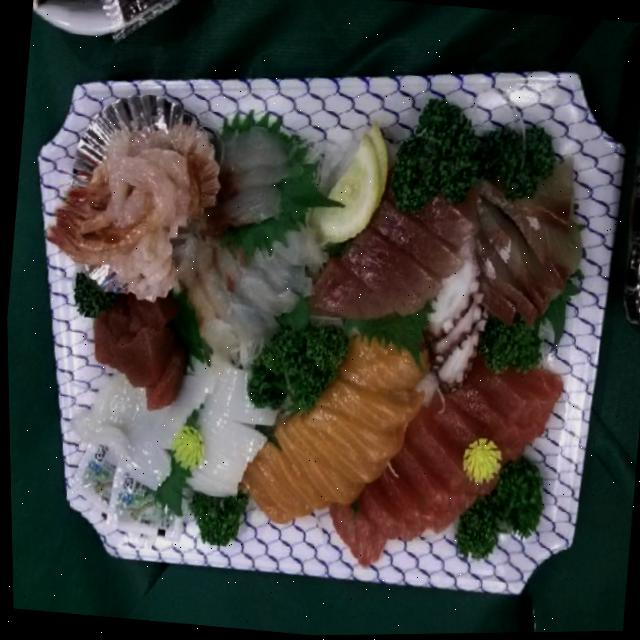刺身生食: (0, 20, 640, 621)
